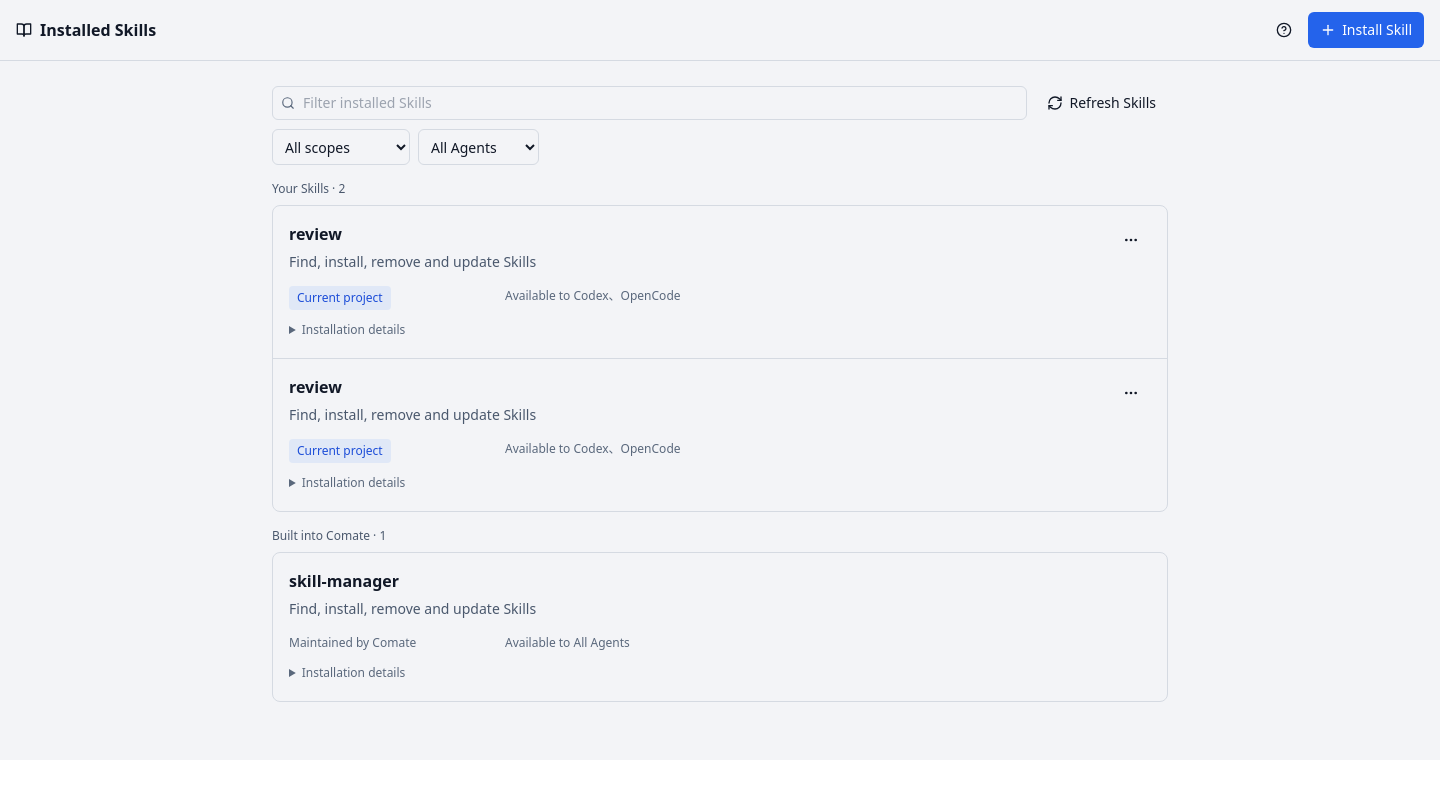
Test: installed Skills contextual management › keeps paths inside installation details even for same-scope copies
Check: the number of headings "review" is 2, box [289, 223, 342, 245]; [289, 376, 342, 398]
Check: the text "/project/.agents/skills/review" is not shown
Click the 1st heading "Installation details": [347, 330] box [289, 318, 405, 342]
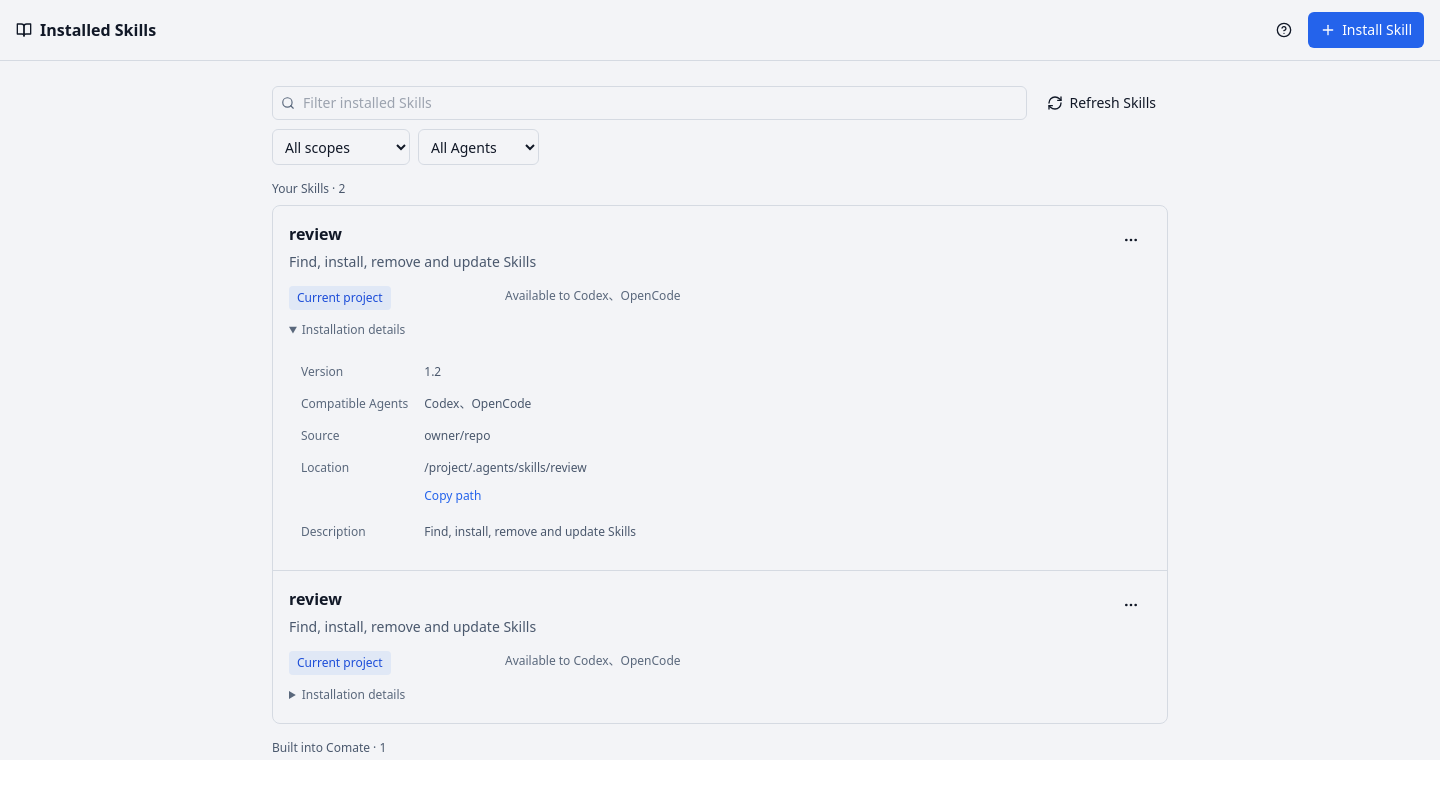
Check: the text "1.2" is shown, box [424, 363, 441, 380]
Check: the text "/project/.agents/skills/review" is shown, box [424, 459, 587, 476]
Check: the button "Copy path" is shown, box [424, 482, 481, 510]
